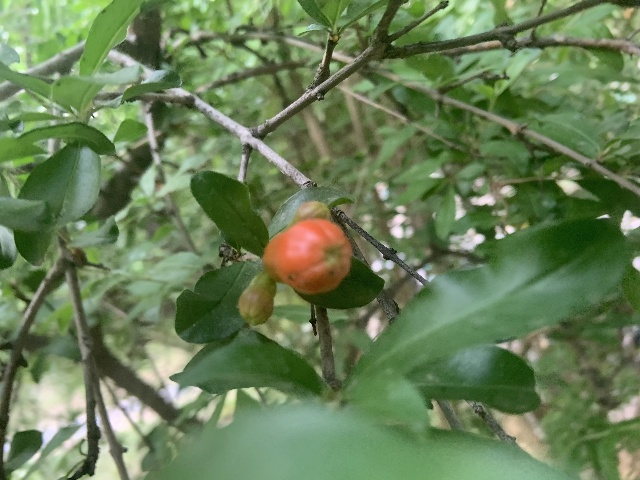bud: (262, 218, 352, 296), (238, 273, 276, 324), (285, 202, 330, 226)
